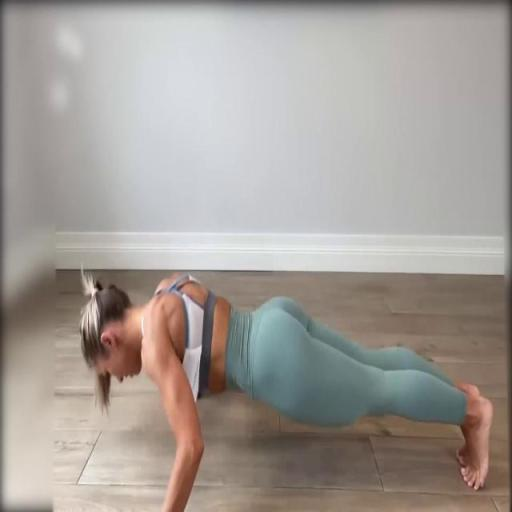Normal_BrenchPress: (79, 271, 495, 510)
